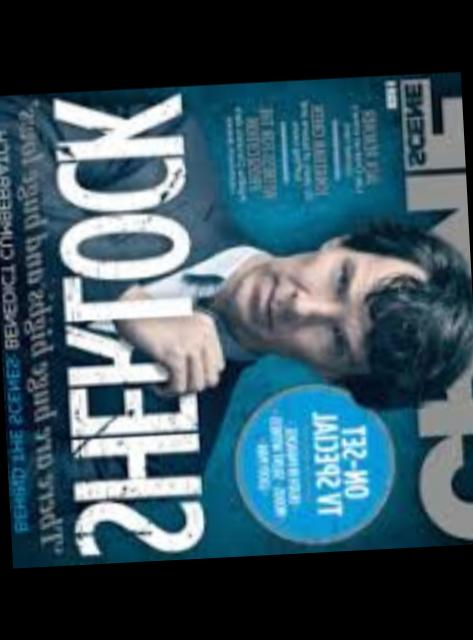cardboard paper: (0, 71, 473, 569)
